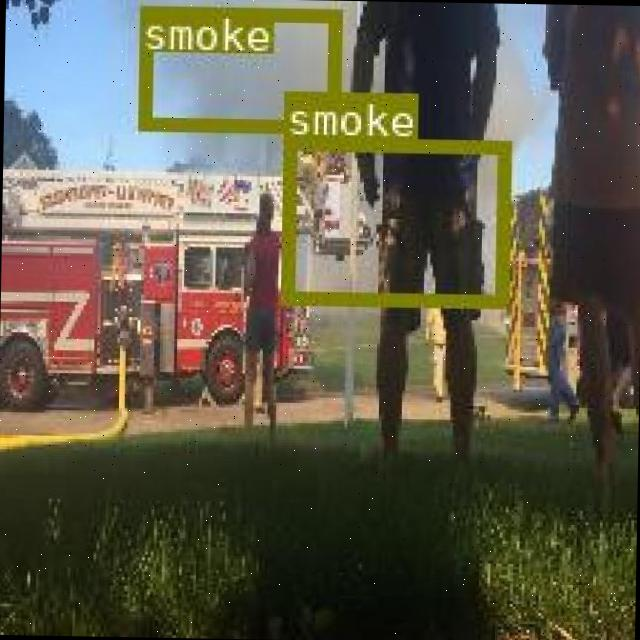smoke: (280, 136, 508, 306), (136, 4, 338, 131)
